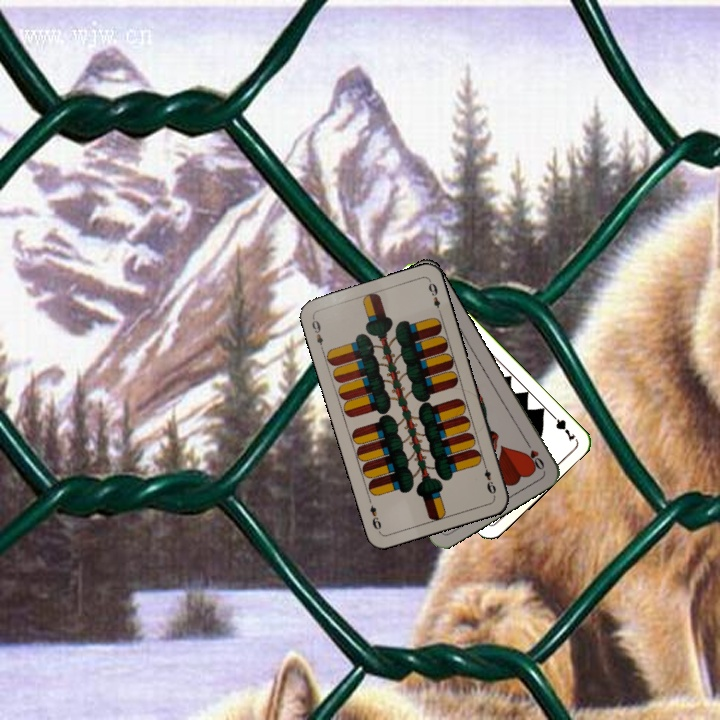E9: (479, 458, 499, 497), (307, 314, 326, 353)
G7: (546, 409, 578, 444)
HO: (521, 435, 547, 473)
